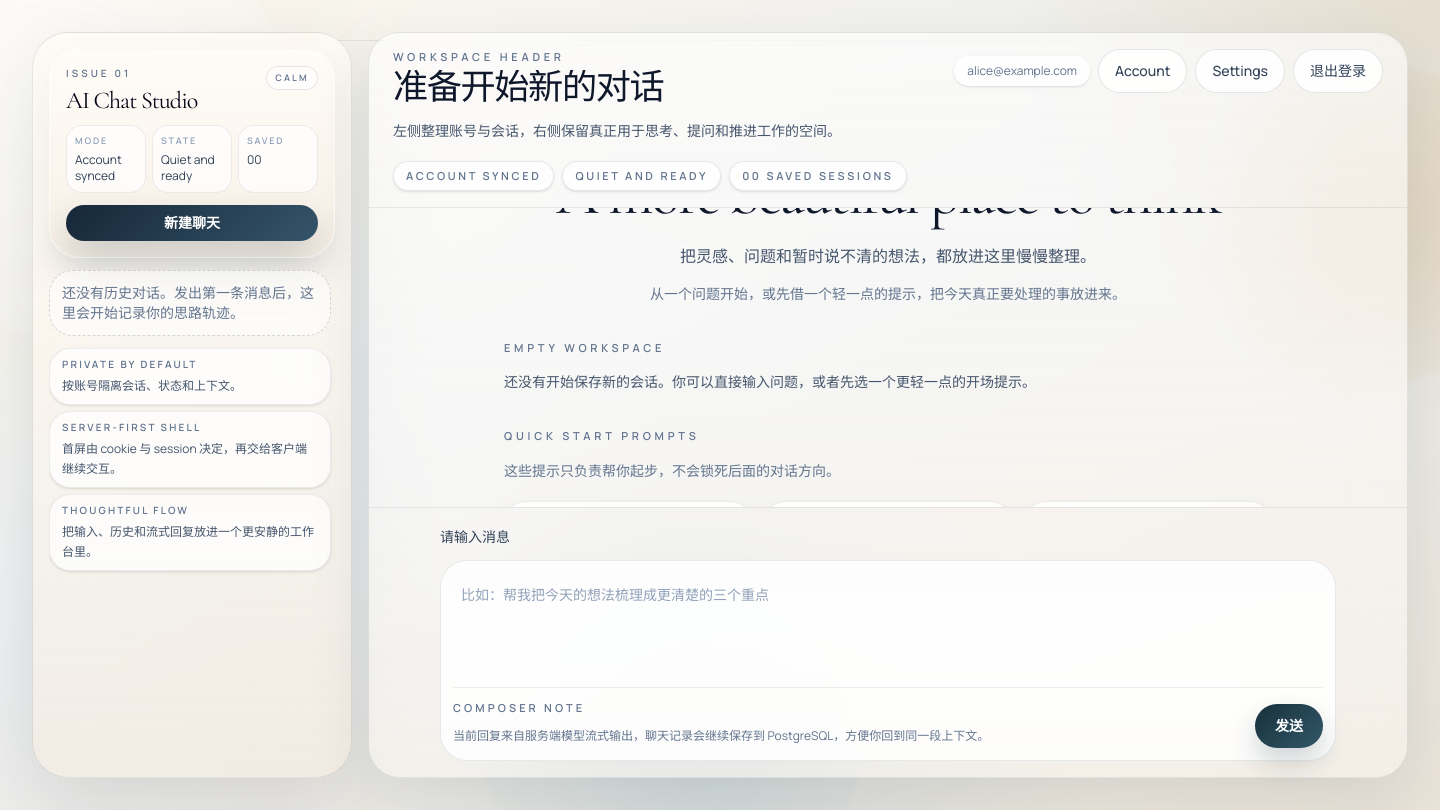
Test case: ChatApp › renders the backend error message when the request fails
Type "测试消息" into the text box labelled "请输入消息" at (888,620), box [453,572,1323,668]
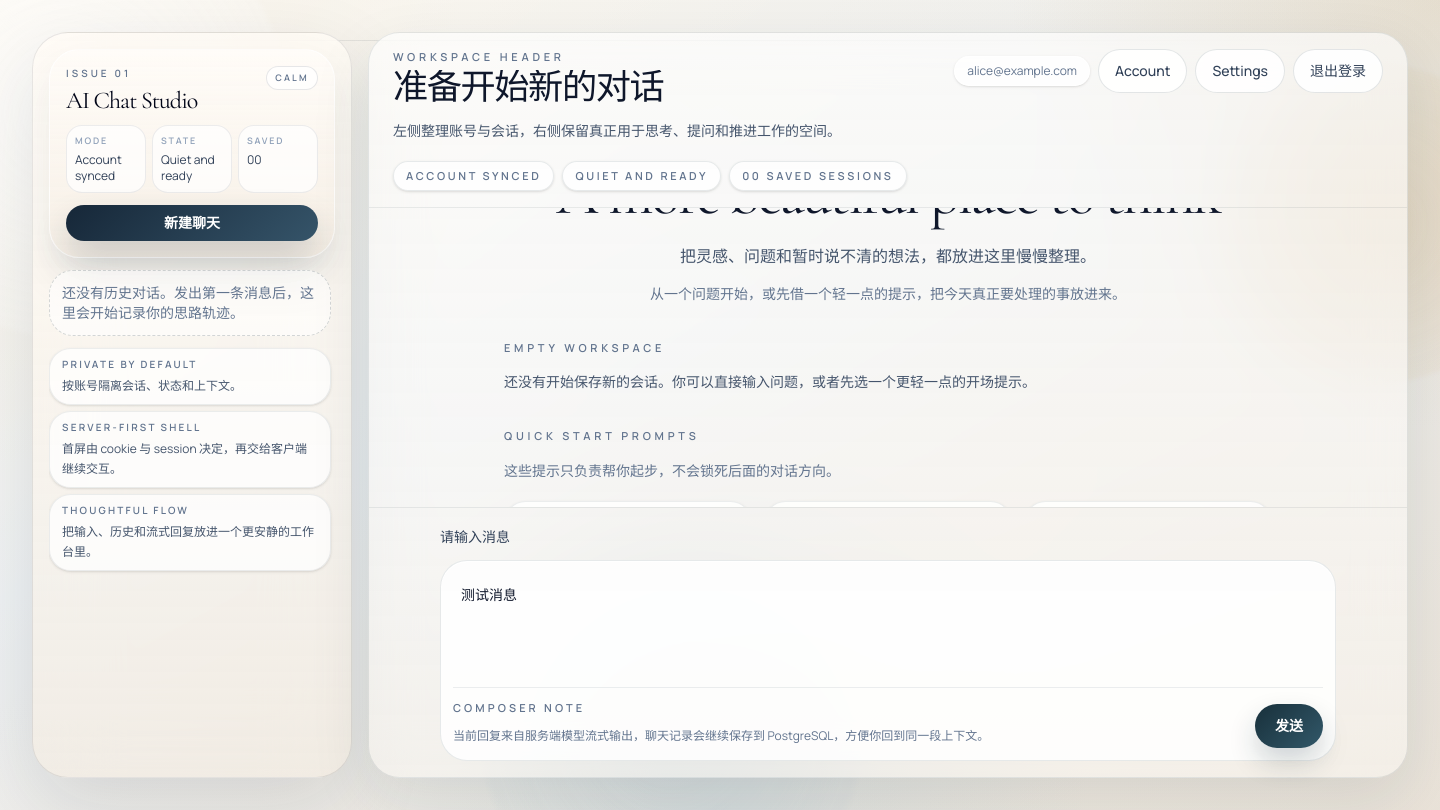
Click the button "发送" at (1289,726), box [1255,704,1323,748]
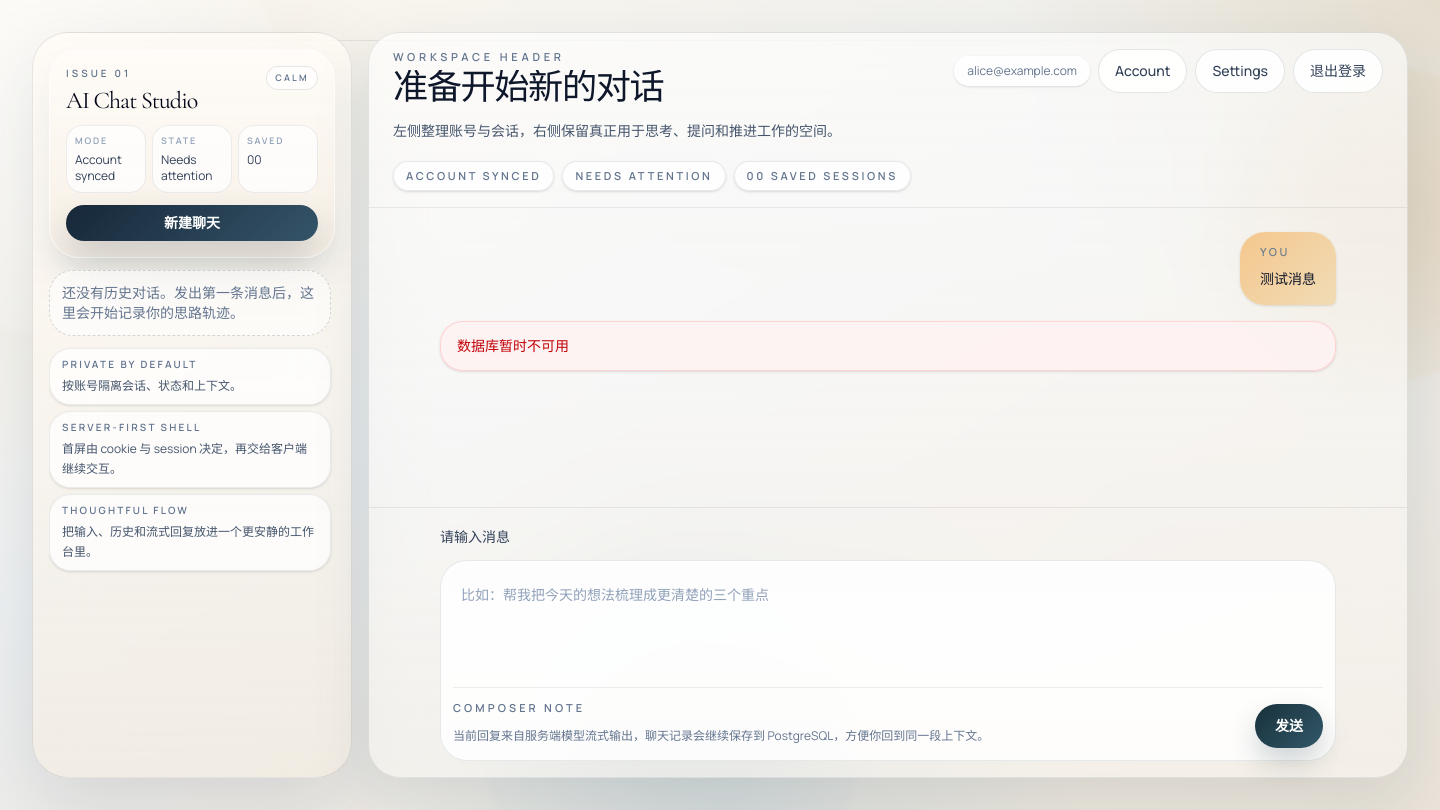
Result: the text "数据库暂时不可用" is shown at [440,321,1336,371]
